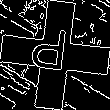P_S: (33, 28, 77, 82)
